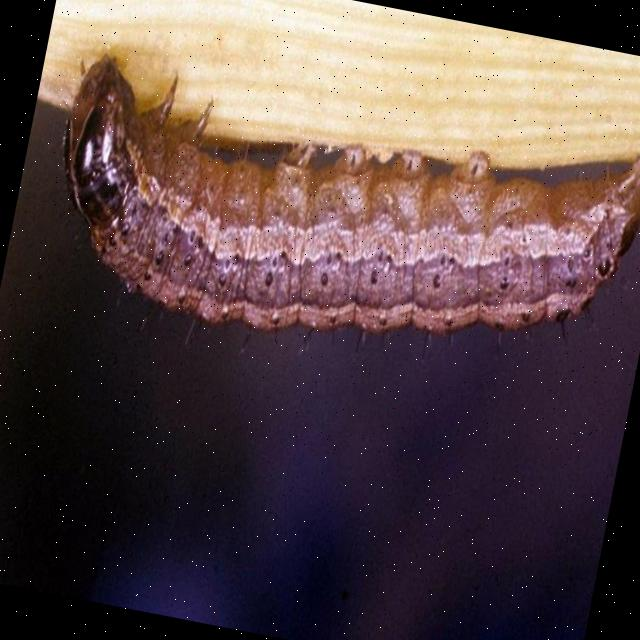worm: (28, 45, 640, 426)
